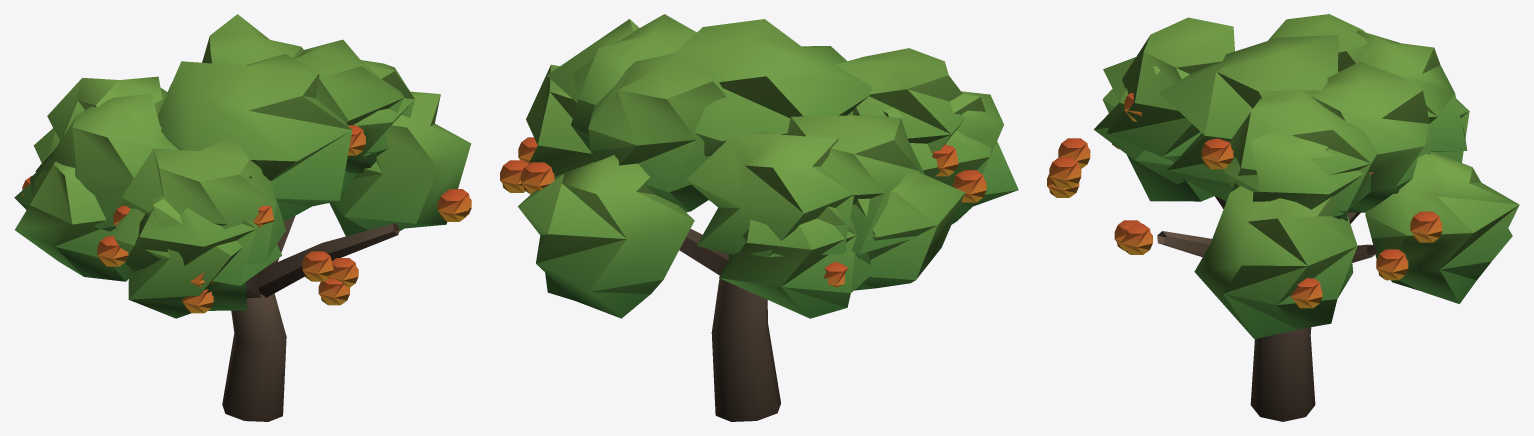
File: wild_apple.glb
The picture shows the model from 3 angles, left to right: view 1: azimuth 30°, elevation 25°; view 2: azimuth 150°, elevation 25°; view 3: azimuth 270°, elevation 25°; orthographic projection. The views are drawn at different scales.
Visible parts, largest first — view 1: wild_apple; view 2: wild_apple; view 3: wild_apple.
Boxes of the visible parts, bbox=[...] form: wild_apple: bbox=[14, 14, 471, 421]; wild_apple: bbox=[500, 14, 1018, 421]; wild_apple: bbox=[1047, 14, 1519, 421].
Size of the model in its own units: 1.03 by 0.8485 by 1.02.
